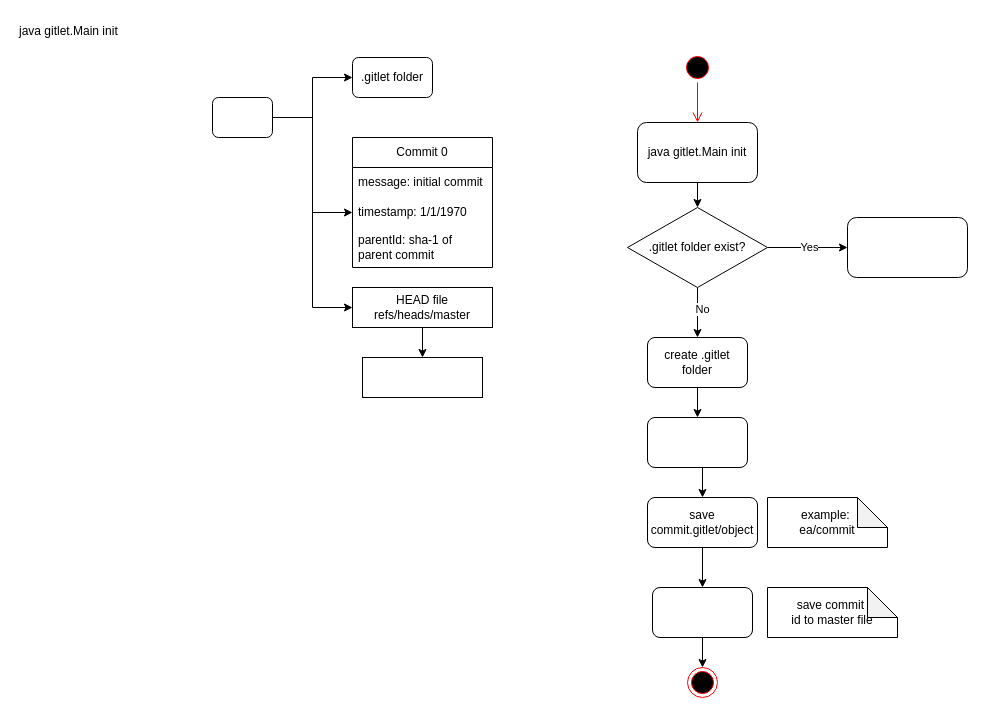
Image size: 985x715. Some labels were removed from this diagram. Each missing label, with the centre of its shape:
"A Gitlet version-control system already exists in the current directory." goes at (907,247).
"create Commit 0" goes at (697,442).
"create HEAD file refs/heads/master" goes at (702,612).
"init" goes at (242,117).
"refs/heads/master Commit 0 sha-1" goes at (422,377).
